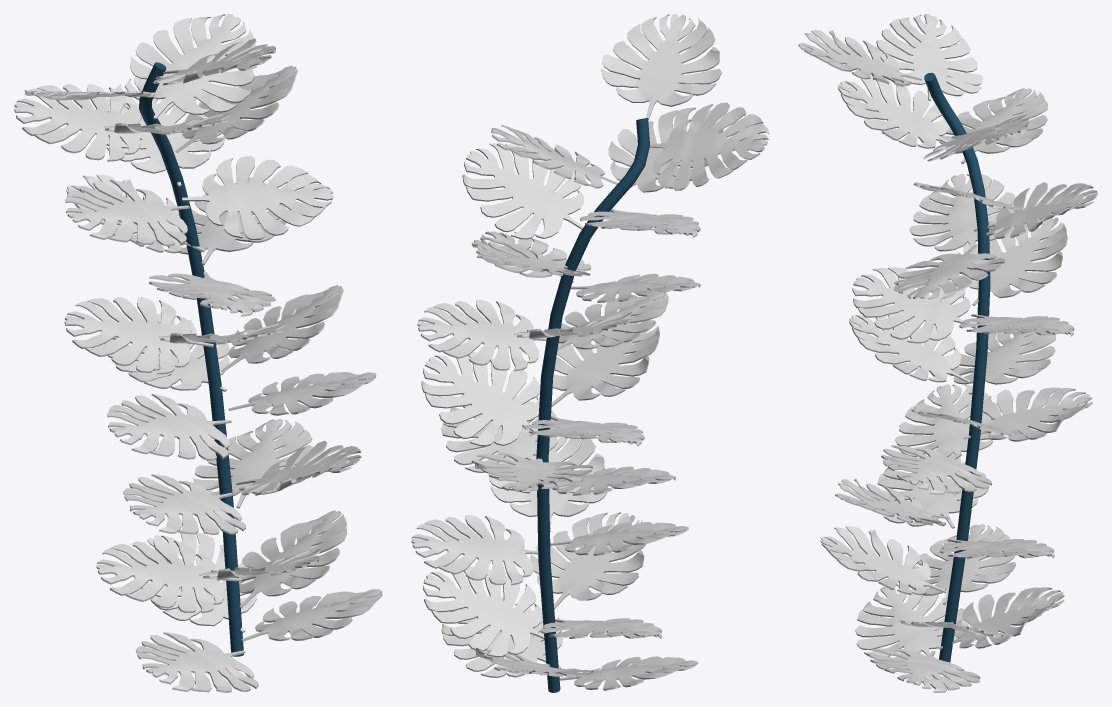
Rendered from SM_seaweed5.fbx.
The picture shows the model from 3 angles, left to right: view 1: azimuth 30°, elevation 25°; view 2: azimuth 150°, elevation 25°; view 3: azimuth 270°, elevation 25°; orthographic projection. The views are drawn at different scales.
Parts seen in each view (by area): view 1: Plane.001, BézierCurve; view 2: Plane.001, BézierCurve; view 3: Plane.001, BézierCurve.
Part boxes in pixels (x1=…): Plane.001: x1=14, y1=14, x2=382, y2=692; BézierCurve: x1=139, y1=62, x2=243, y2=656; Plane.001: x1=411, y1=14, x2=769, y2=690; BézierCurve: x1=536, y1=118, x2=649, y2=692; Plane.001: x1=798, y1=14, x2=1097, y2=692; BézierCurve: x1=924, y1=72, x2=990, y2=662.
Bounding box in the file's own units: 73.28 × 137 × 61.52.
